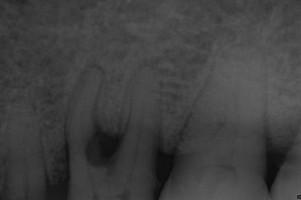Endo-Periodontal Lesion: (87, 122, 125, 171)
